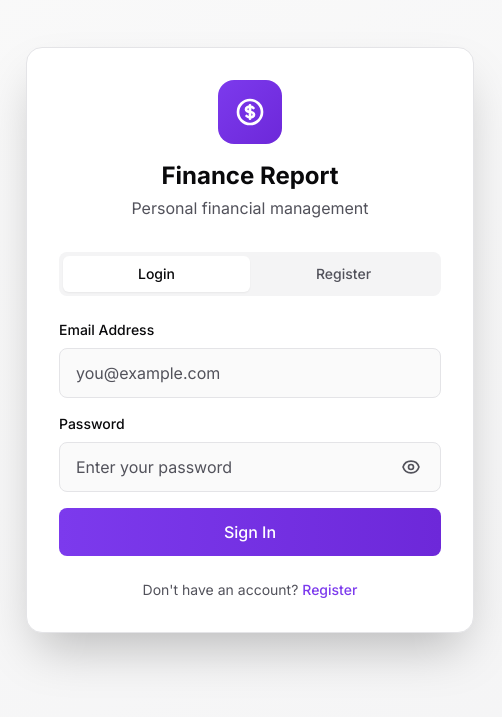
Test: LoginPage › AC16.12.14 shows error with alert role and aria-live
The width and height of the screenshot is (502, 717).
In the field labelled "Email Address": coordinates (250, 373) [59,348,441,398], type "a@b.com"
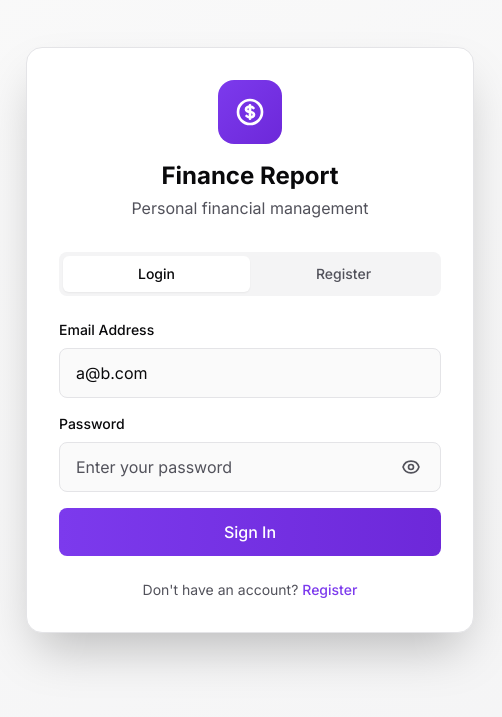
In the password field labelled "Password": coordinates (250, 467) [59,442,441,492], type "12345678"
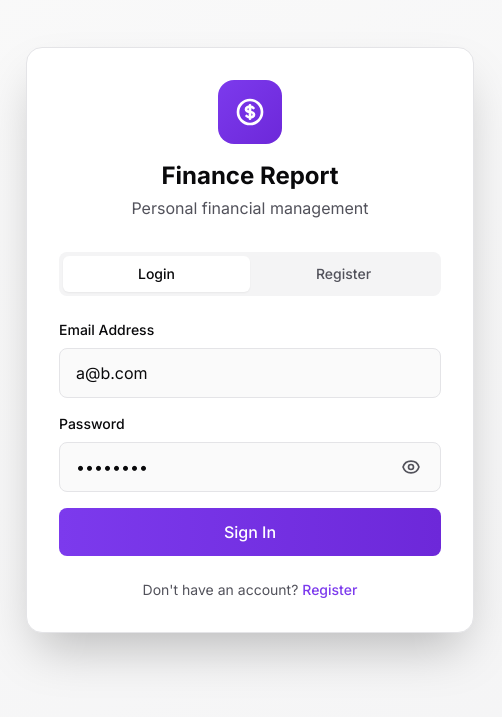
Click the button "Sign In": coordinates (250, 532) [59,508,441,556]
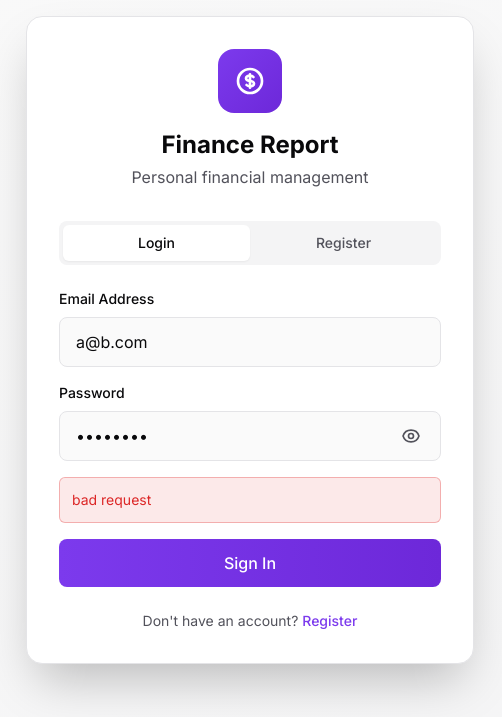
expect the message reads "bad request": met, box [72,491,151,508]
